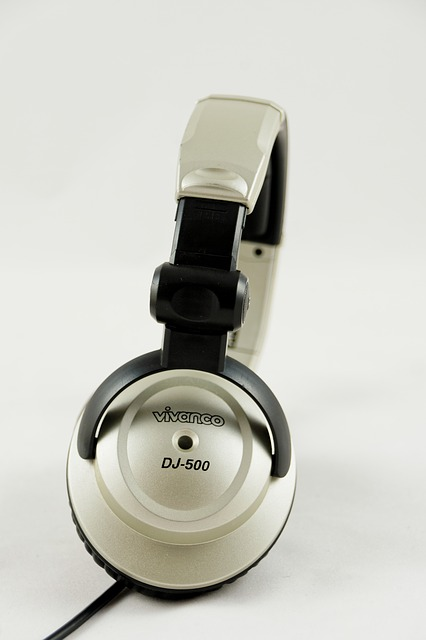headphones: (66, 94, 298, 604)
